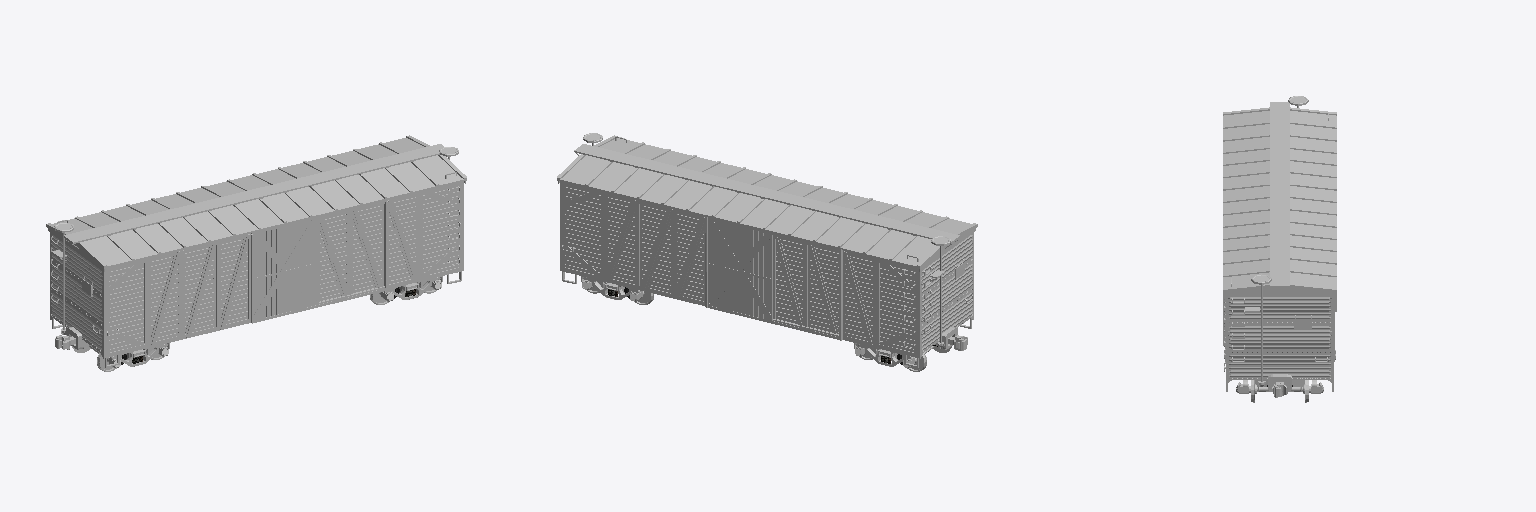
3 renders of one model, left to right at view 1: azimuth 30°, elevation 25°; view 2: azimuth 150°, elevation 25°; view 3: azimuth 270°, elevation 25°, orthographic.
Parts seen in each view (by area): view 1: SHELL, SHELL_WOOD, EXTERNAL_DOOR_2_TL_2_X_DOOR_2; view 2: SHELL, SHELL_WOOD, EXTERNAL_DOOR_1_TL_-2_X; view 3: SHELL.
Boxes of the visible parts, x1=… form: SHELL: x1=46, y1=135, x2=466, y2=367; SHELL_WOOD: x1=109, y1=186, x2=458, y2=352; EXTERNAL_DOOR_2_TL_2_X_DOOR_2: x1=253, y1=218, x2=318, y2=319; SHELL: x1=557, y1=135, x2=977, y2=367; SHELL_WOOD: x1=565, y1=186, x2=914, y2=352; EXTERNAL_DOOR_1_TL_-2_X: x1=708, y1=219, x2=772, y2=320; SHELL: x1=1223, y1=102, x2=1336, y2=391.
Bounding box in the file's own units: 12.81 × 4.14 × 3.21.
10 materials, 2 textured.